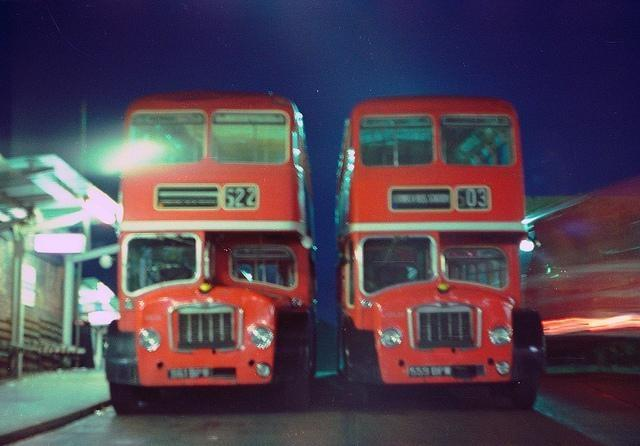bus: (102, 92, 318, 420), (336, 94, 545, 409)
